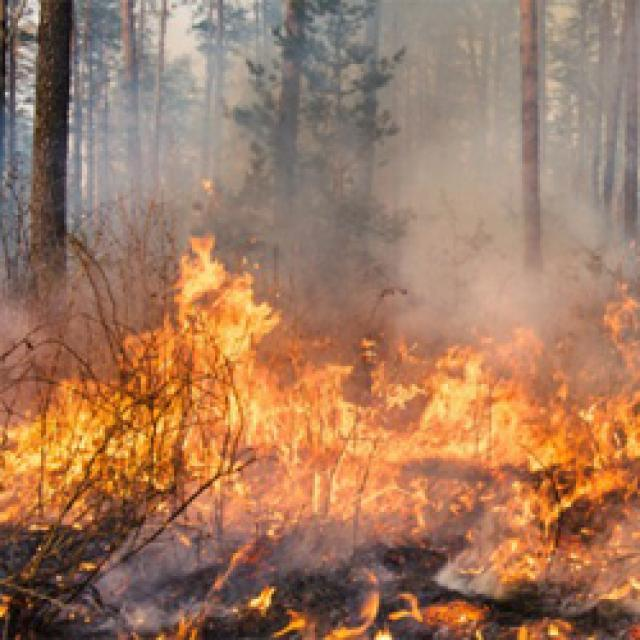Fire: (0, 242, 640, 526), (278, 570, 422, 640), (465, 528, 593, 593), (198, 540, 278, 624), (108, 596, 200, 640), (422, 596, 484, 640), (499, 617, 576, 640), (0, 578, 11, 622)
Smoke: (276, 0, 640, 326), (0, 1, 174, 328), (176, 3, 277, 239)
